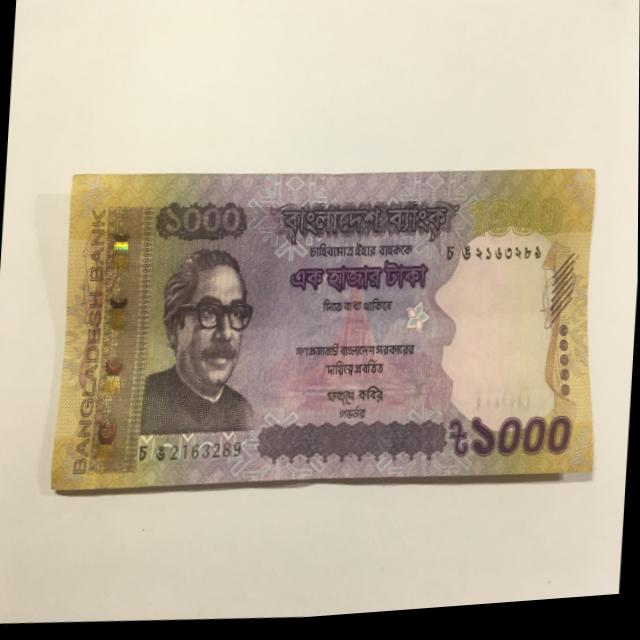Taka: (46, 134, 620, 533)
